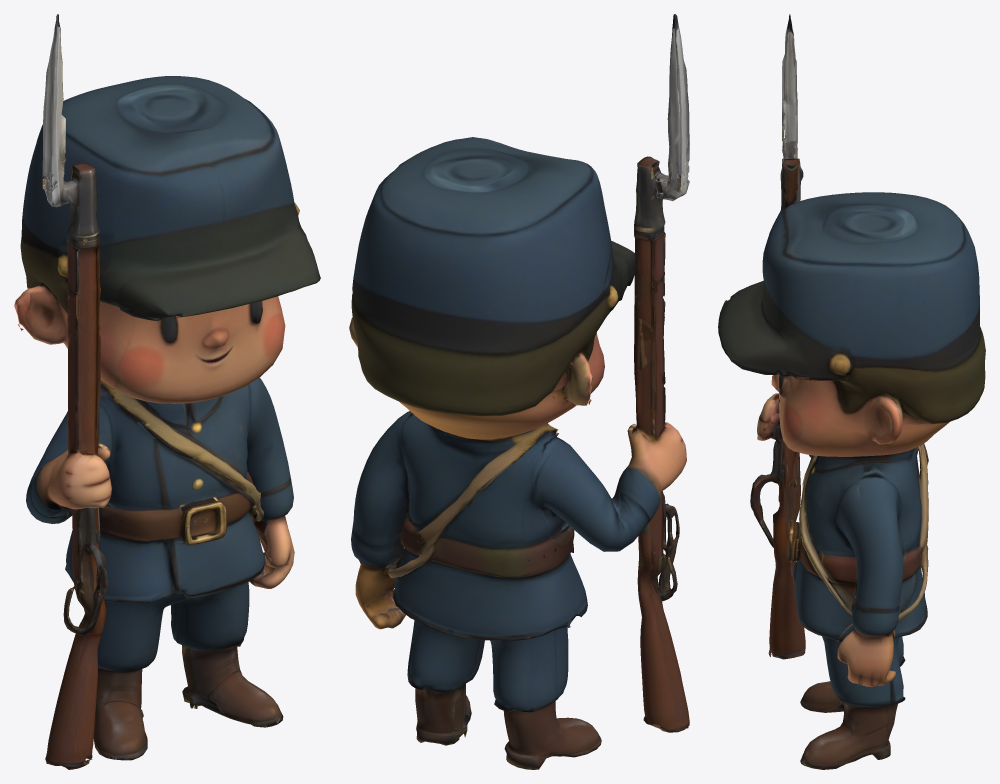
File: union infantry 3d.glb
3 renders of one model, left to right at view 1: azimuth 30°, elevation 25°; view 2: azimuth 150°, elevation 25°; view 3: azimuth 270°, elevation 25°, orthographic. The views are drawn at different scales.
Bounding box in the file's own units: 0.8001 × 1.99 × 0.7351.
Materials: 1 (1 with a texture image).
